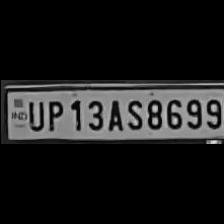1: (64, 97, 82, 131)
3: (84, 97, 104, 131)
6: (164, 96, 182, 130)
8: (145, 97, 163, 131)
9: (182, 94, 202, 130), (202, 96, 222, 128)
A: (104, 97, 124, 131)
P: (43, 97, 63, 130)
S: (122, 97, 142, 131)
U: (24, 97, 44, 130)
